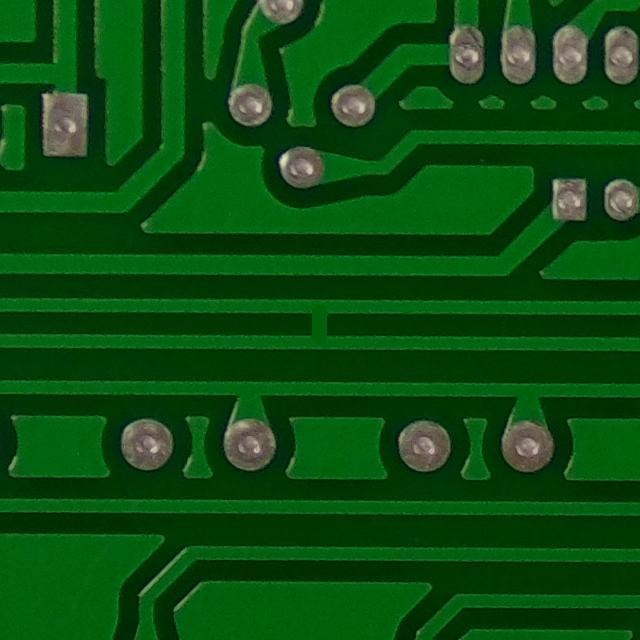short: (294, 292, 347, 348)
